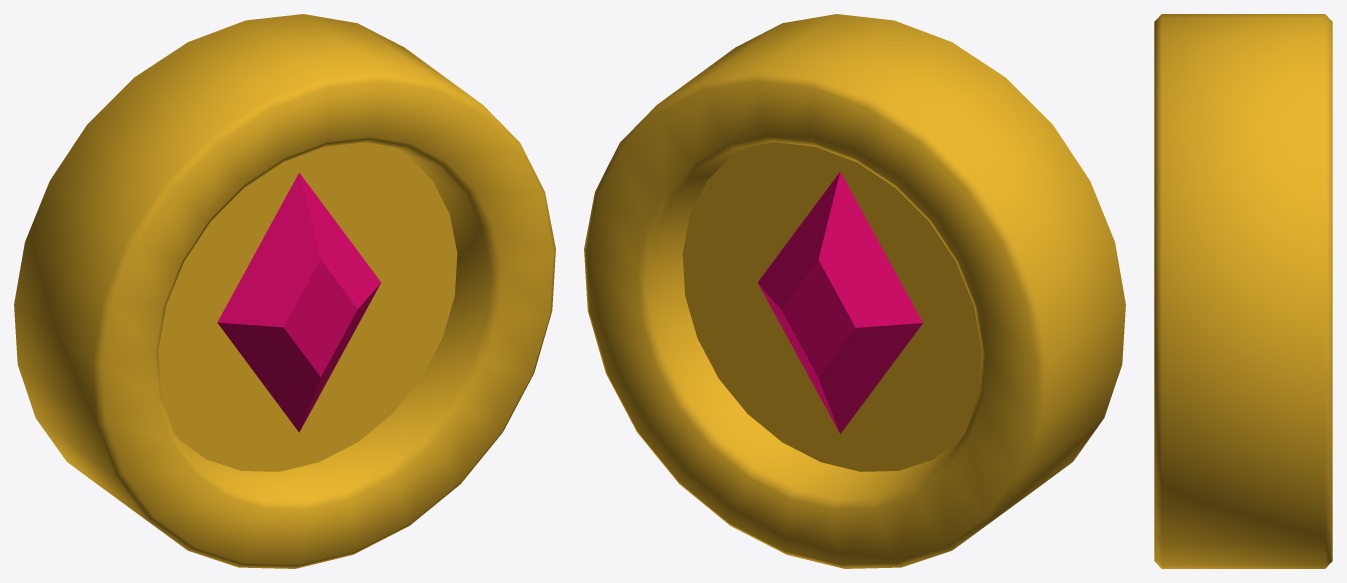
Rendered from coin4.fbx.
The picture shows the model from 3 angles, left to right: view 1: azimuth 30°, elevation 25°; view 2: azimuth 150°, elevation 25°; view 3: azimuth 270°, elevation 25°; orthographic projection. The views are drawn at different scales.
Visible parts, largest first — view 1: Circle.003; view 2: Circle.003; view 3: Circle.003.
Part boxes in pixels (x1,y1,x2,y2): Circle.003: [14, 14, 555, 568]; Circle.003: [584, 14, 1125, 568]; Circle.003: [1154, 14, 1332, 568].
Size of the model in its own units: 0.7158 by 0.7144 by 0.2303.
